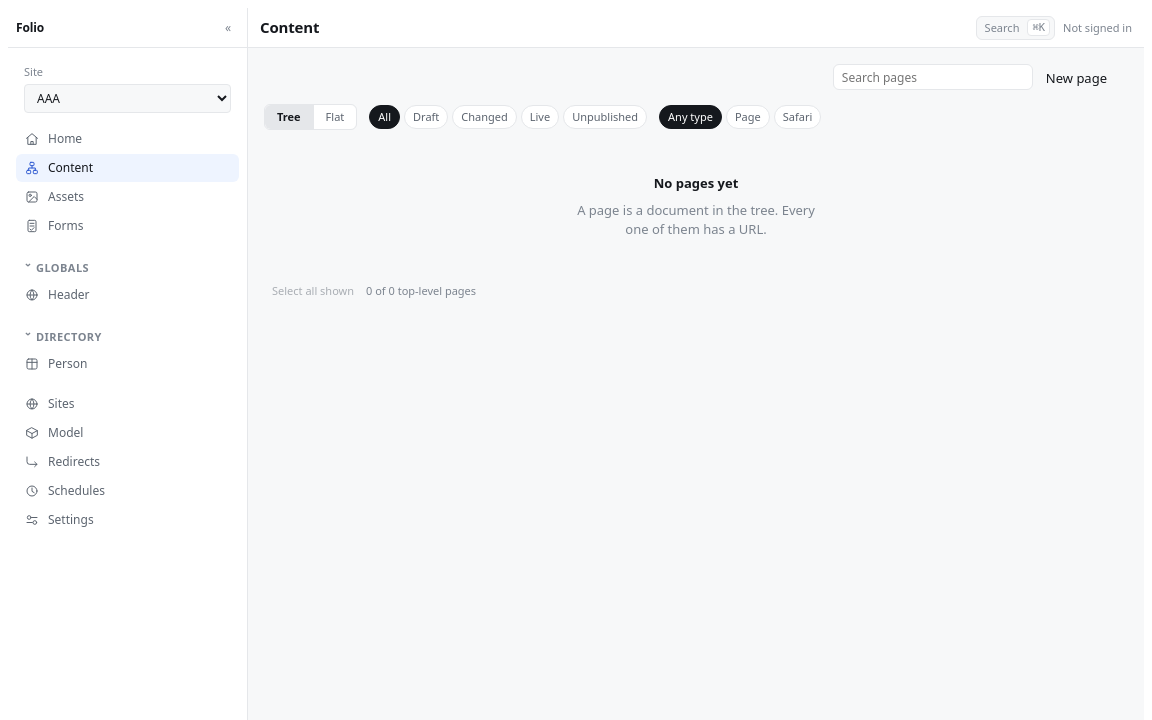
Test: the admin on a deployment with brands › is the other brand’s on the other brand’s scope
The width and height of the screenshot is (1152, 720).
Click the button "New page". click: (1076, 78)
box: [1037,64,1116,92]
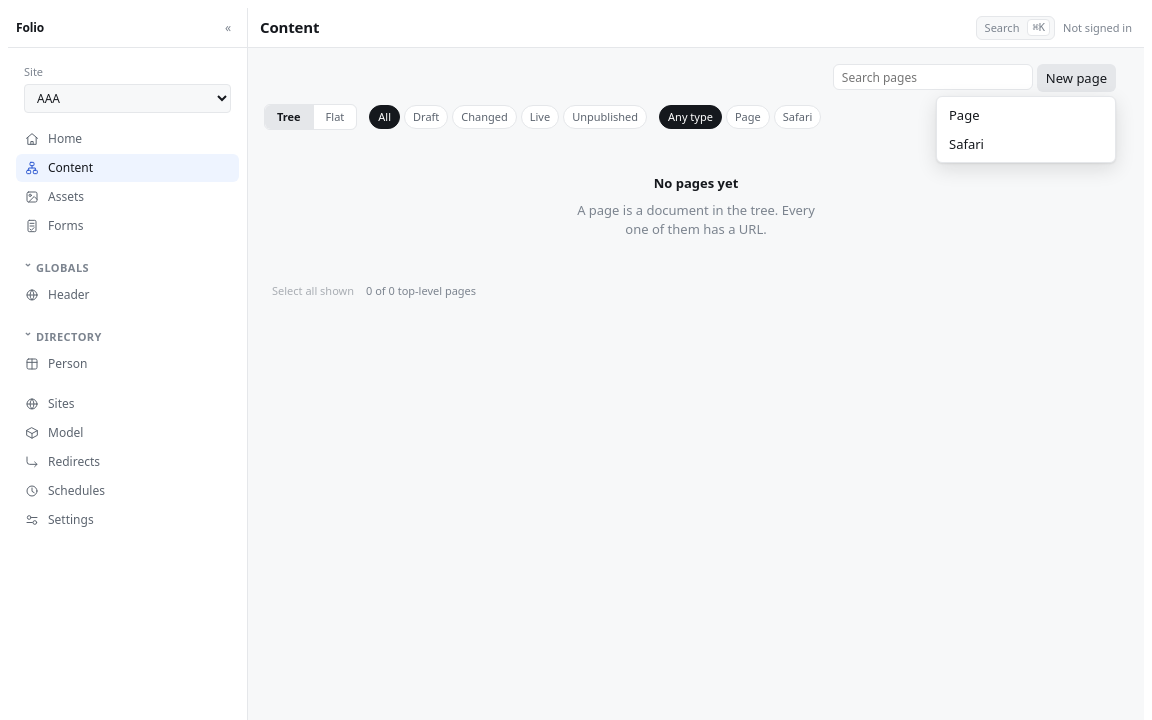
Expected: the menu item "Safari" is shown, [941,130,1111,158]
